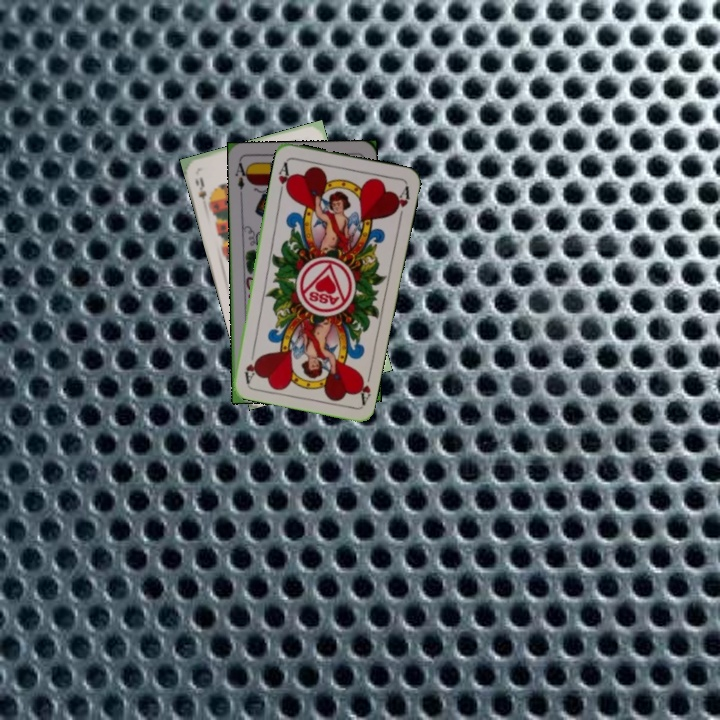EA: (231, 158, 251, 198)
HA: (353, 367, 374, 407), (274, 157, 294, 198)
S9: (191, 173, 215, 209)
